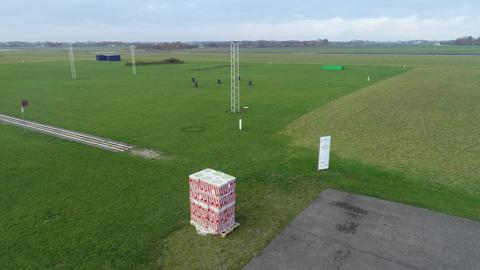RockwoolPallet: (188, 168, 236, 236)
